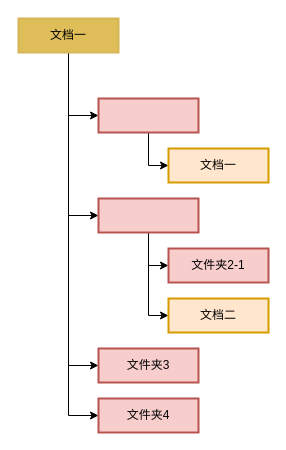
The diagram is 286 pixels wide and 450 high, and some of its shapes have lost their labels. The centre of each missing label's shape, as x and y in pixels:
文件夹1: the point at 148,115
文件夹2: the point at 148,215
